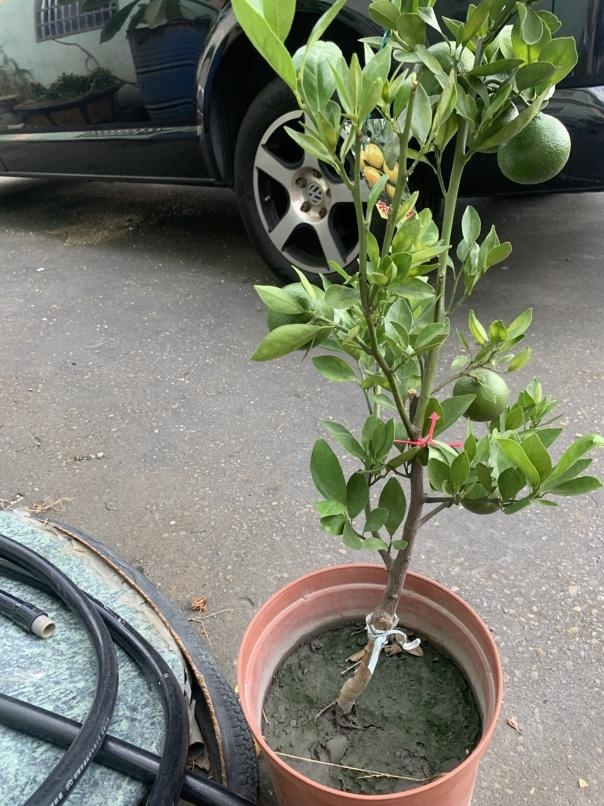Tangerine: (495, 109, 571, 186)
